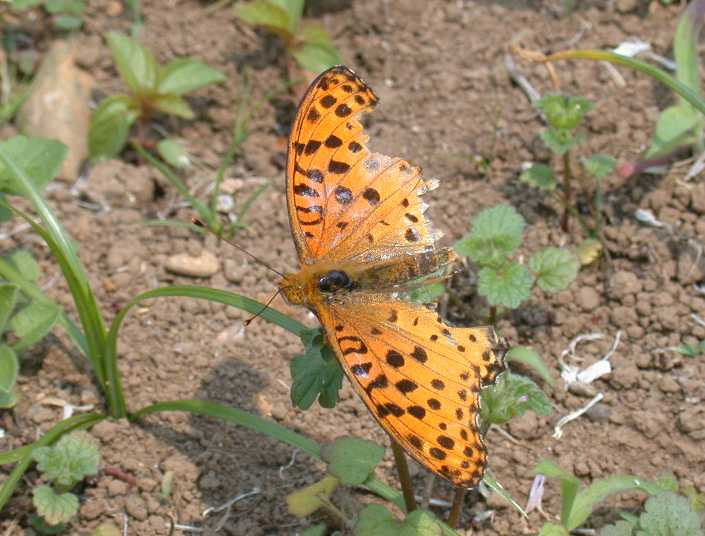Argyreus hyperbius: (185, 62, 509, 486)
butterfly: (187, 64, 511, 488)
